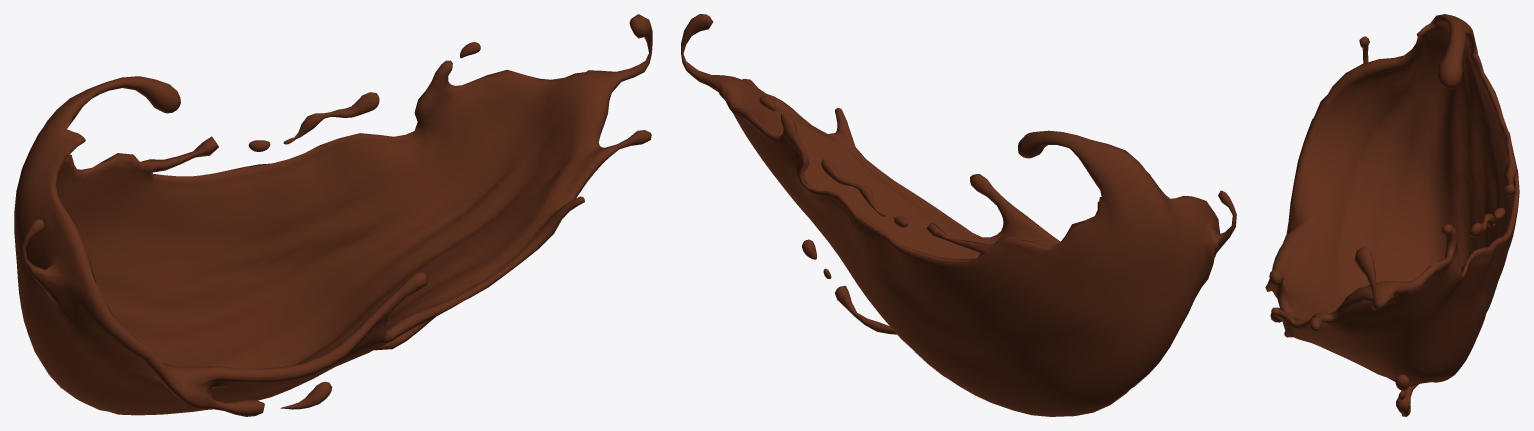
The picture shows the model from 3 angles, left to right: view 1: azimuth 30°, elevation 25°; view 2: azimuth 150°, elevation 25°; view 3: azimuth 270°, elevation 25°; orthographic projection. The views are drawn at different scales.
Visible parts, largest first — view 1: chocolate_splash_free_001_grp; view 2: chocolate_splash_free_001_grp; view 3: chocolate_splash_free_001_grp.
Boxes of the visible parts, x1=… form: chocolate_splash_free_001_grp: x1=14, y1=14, x2=652, y2=416; chocolate_splash_free_001_grp: x1=681, y1=14, x2=1236, y2=416; chocolate_splash_free_001_grp: x1=1265, y1=14, x2=1519, y2=416.
Size of the model in its own units: 51.86 by 26.11 by 19.97.
1 material, 1 textured.
